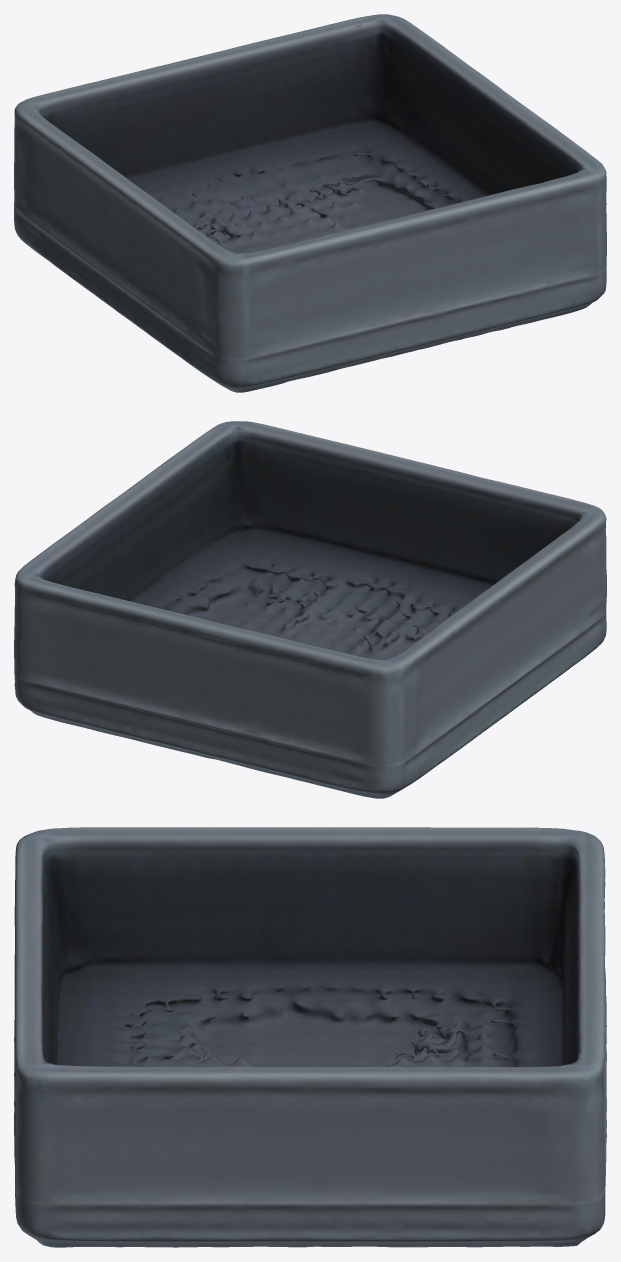
The model's file is Container2.fbx.
3 views of the same model, one above another, from view 1: azimuth 30°, elevation 25°; view 2: azimuth 150°, elevation 25°; view 3: azimuth 270°, elevation 25° (orthographic). The views are drawn at different scales.
Parts seen in each view (by area): view 1: high_poly; view 2: high_poly; view 3: high_poly.
Boxes of the visible parts, x1,y1,x2,y2 form: high_poly: (14, 14, 606, 392); high_poly: (14, 421, 606, 798); high_poly: (14, 827, 606, 1247).
Size of the model in its own units: 100 by 34.63 by 99.88.
